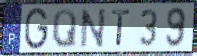3: (138, 8, 159, 48)
9: (165, 6, 188, 49)
G: (23, 6, 50, 51)
N: (79, 7, 107, 50)
Q: (51, 8, 78, 50)
T: (110, 8, 132, 48)
